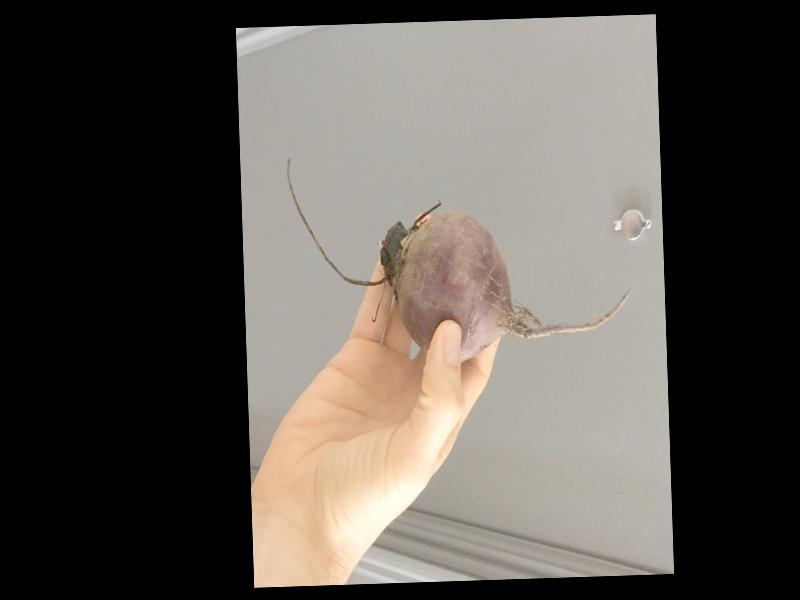Beet: (286, 145, 632, 367)
